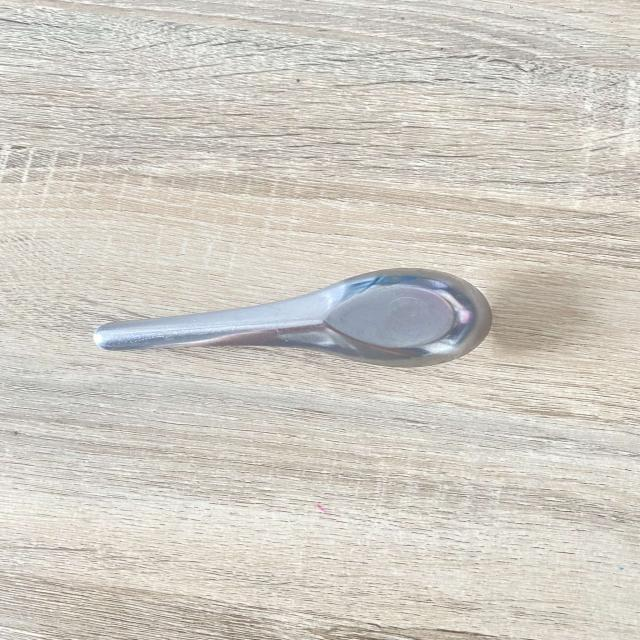short-spoon: (82, 259, 528, 372)
